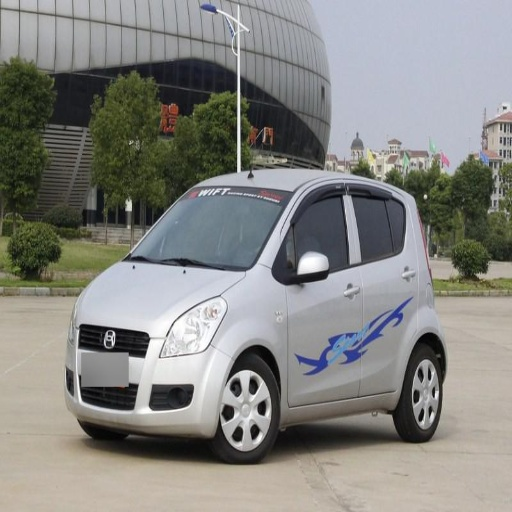front_bumper: (64, 322, 232, 434)
front_glass: (126, 190, 290, 270)
front_left_door: (275, 182, 361, 406)
